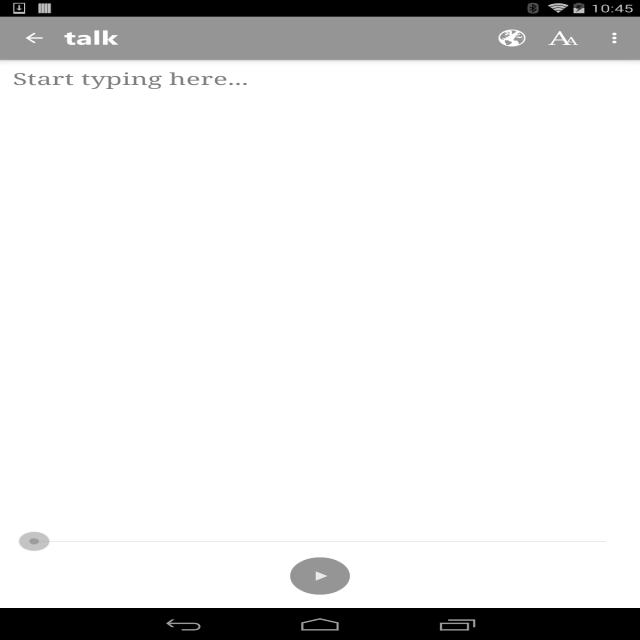EditText: (0, 59, 640, 608)
ImageButton: (0, 19, 60, 57), (290, 557, 350, 595)
ImageView: (0, 250, 640, 383), (589, 22, 640, 54), (59, 27, 122, 49)
SeekBar: (17, 531, 623, 552)
TextView: (0, 383, 640, 417), (487, 22, 538, 54), (538, 22, 588, 54)
